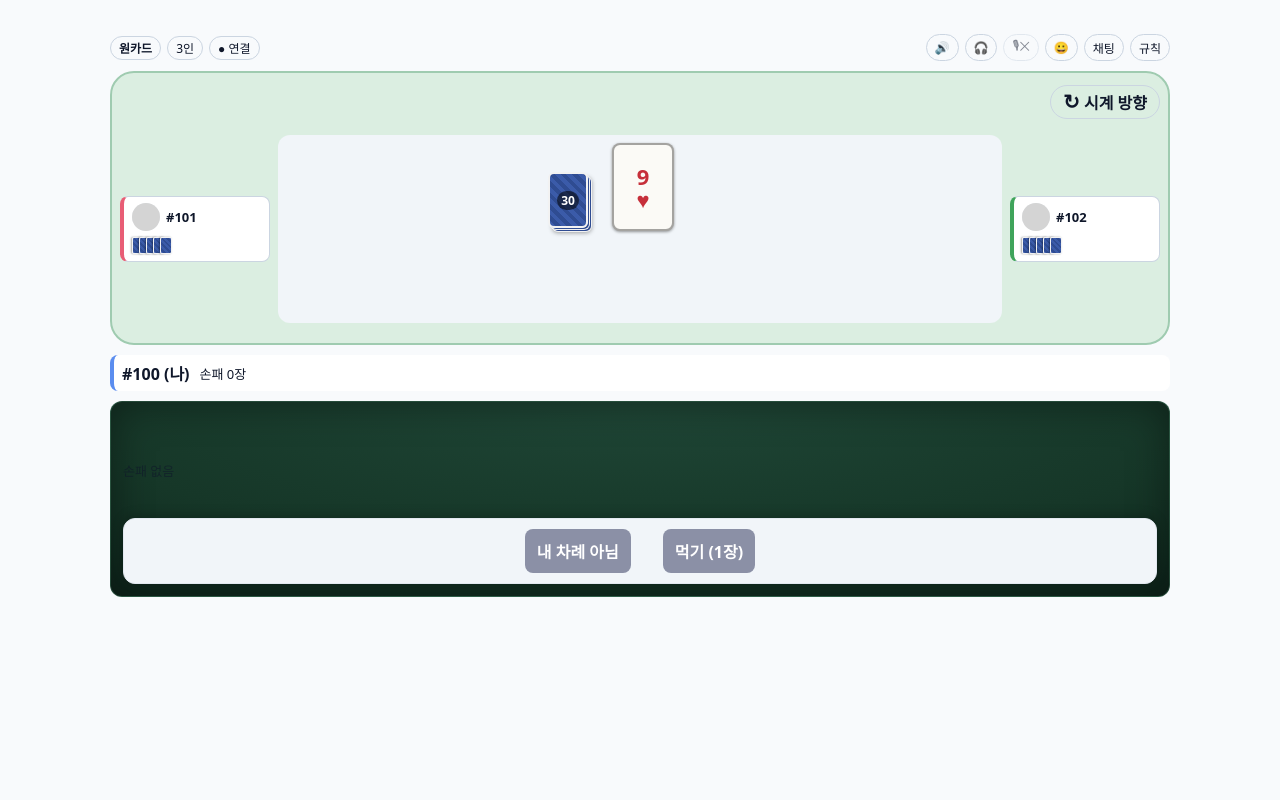
Test: OneCardTable — 종료·나가기 › 규칙 버튼은 원카드 튜토리얼을 연다
Click the button "규칙" at (1150, 48), box [1130,34,1170,61]
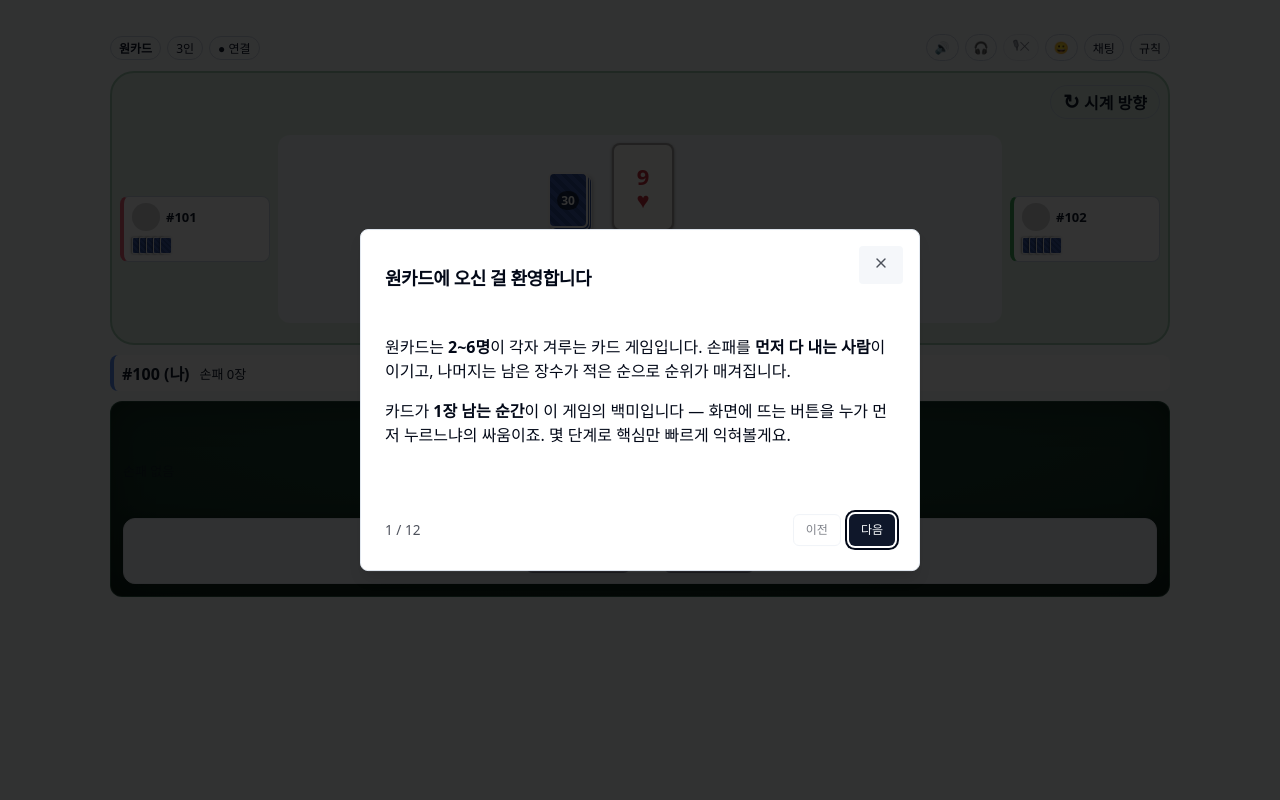
Expected: the heading "원카드에 오신 걸 환영합니다" is shown, [385,266,591,290]
